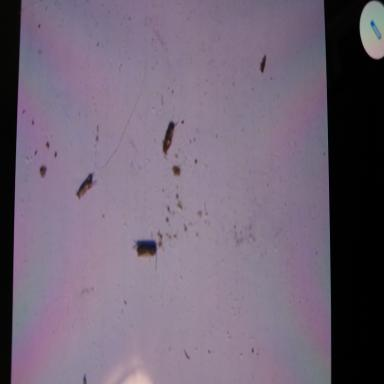pbw: (74, 169, 97, 200), (161, 118, 179, 156), (131, 238, 158, 258)
